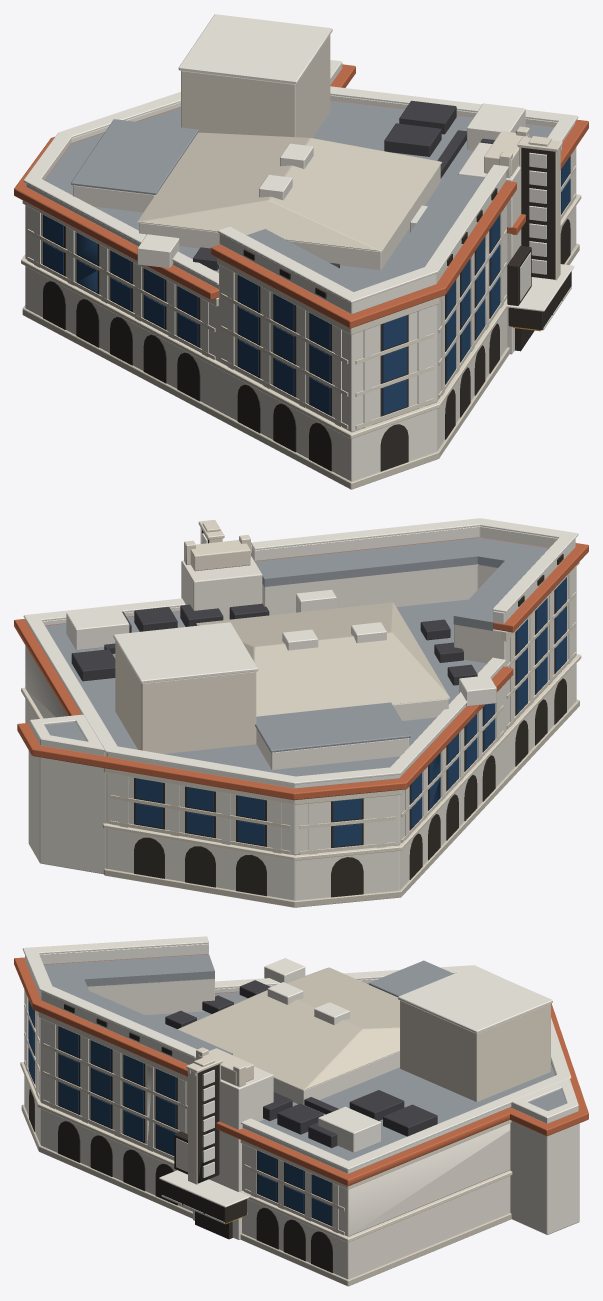
The model's file is orpheum-theatre.glb.
3 views of the same model, one above another, from view 1: azimuth 30°, elevation 25°; view 2: azimuth 150°, elevation 25°; view 3: azimuth 270°, elevation 25° (orthographic). The views are drawn at different scales.
Visible parts, largest first — view 1: grp_Toy_cream, grp_Toy_trim, grp_Toy_stone, grp_Toy_sand, grp_Toy_ink, grp_Toy_steel, grp_Toy_glass, grp_Toy_brick, grp_Toy_roofd, grp_Toy_white_Glow; view 2: grp_Toy_cream, grp_Toy_trim, grp_Toy_steel, grp_Toy_sand, grp_Toy_stone, grp_Toy_ink, grp_Toy_brick, grp_Toy_glass, grp_Toy_roofd; view 3: grp_Toy_cream, grp_Toy_trim, grp_Toy_sand, grp_Toy_stone, grp_Toy_steel, grp_Toy_ink, grp_Toy_glass, grp_Toy_brick, grp_Toy_roofd, grp_Toy_white_Glow.
Part boxes in pixels (x1,y1,x2,y2): grp_Toy_cream: (25,142,576,481); grp_Toy_trim: (23,14,578,314); grp_Toy_stone: (22,132,579,489); grp_Toy_sand: (21,35,581,438); grp_Toy_ink: (43,147,571,471); grp_Toy_steel: (44,100,553,291); grp_Toy_glass: (43,156,570,414); grp_Toy_brick: (14,64,588,328); grp_Toy_roofd: (193,100,516,270); grp_Toy_white_Glow: (508,144,571,330); grp_Toy_cream: (25,556,576,900); grp_Toy_trim: (23,518,578,788); grp_Toy_steel: (44,537,548,776); grp_Toy_sand: (21,520,581,860); grp_Toy_stone: (103,602,579,907); grp_Toy_ink: (134,530,566,897); grp_Toy_brick: (14,537,588,800); grp_Toy_glass: (135,577,566,846); grp_Toy_roofd: (71,603,477,685); grp_Toy_cream: (24,978,579,1279); grp_Toy_trim: (22,936,578,1207); grp_Toy_sand: (20,1000,550,1242); grp_Toy_stone: (21,967,511,1286); grp_Toy_steel: (44,954,566,1160); grp_Toy_ink: (29,1004,332,1272); grp_Toy_glass: (28,1000,331,1224); grp_Toy_brick: (14,954,588,1186); grp_Toy_roofd: (165,980,437,1147); grp_Toy_white_Glow: (161,1068,247,1223).
Size of the model in its own units: 67.65 by 27.2 by 77.62.
